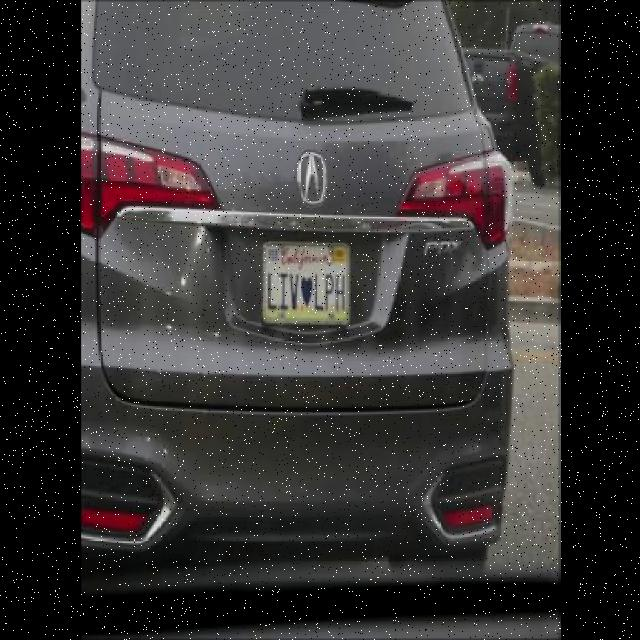licenseplate: (264, 232, 353, 330)
